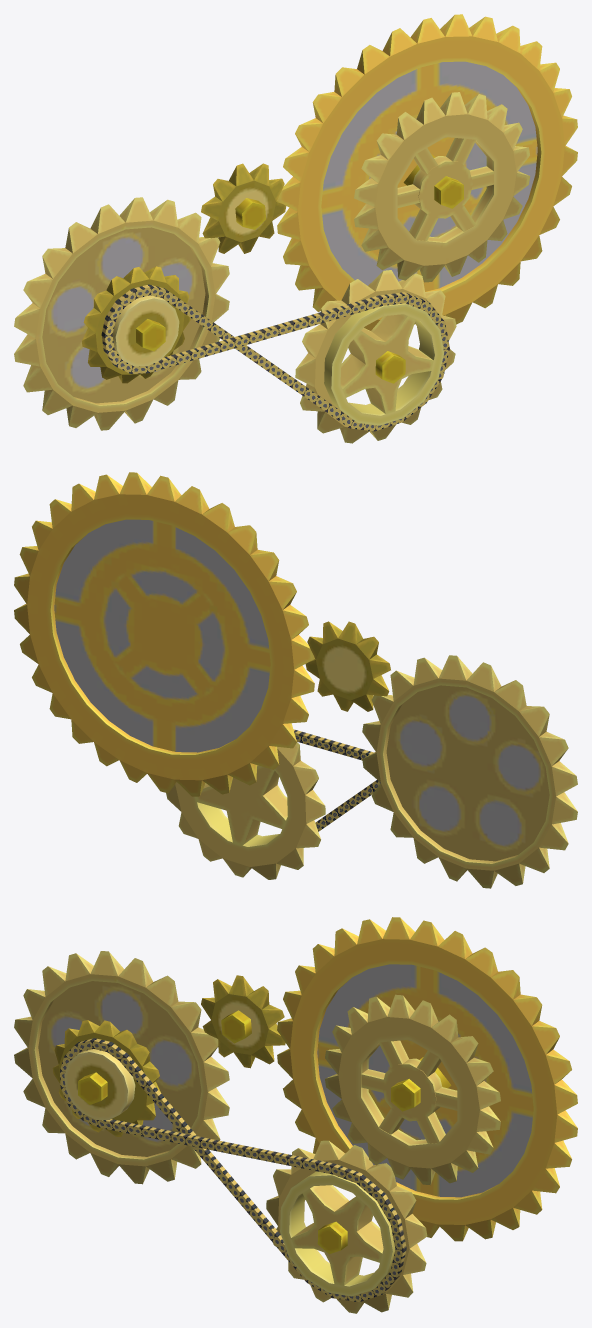
Rendered from FtrGearWallGold.glb.
3 views of the same model, one above another, from view 1: azimuth 30°, elevation 25°; view 2: azimuth 150°, elevation 25°; view 3: azimuth 330°, elevation 25° (orthographic).
Visible parts, largest first — view 1: Gear1_L_1_low__mBody, Chain_low__mChain; view 2: Gear1_L_1_low__mBody, Chain_low__mChain; view 3: Gear1_L_1_low__mBody, Chain_low__mChain.
Part boxes in pixels (<box>): Gear1_L_1_low__mBody: <box>14,14,577,443</box>; Chain_low__mChain: <box>101,284,449,431</box>; Gear1_L_1_low__mBody: <box>14,472,577,888</box>; Chain_low__mChain: <box>293,729,380,831</box>; Gear1_L_1_low__mBody: <box>14,917,577,1313</box>; Chain_low__mChain: <box>60,1038,406,1302</box>.
Size of the model in its own units: 14.66 by 9.83 by 1.62.
2 materials, 2 textured.
